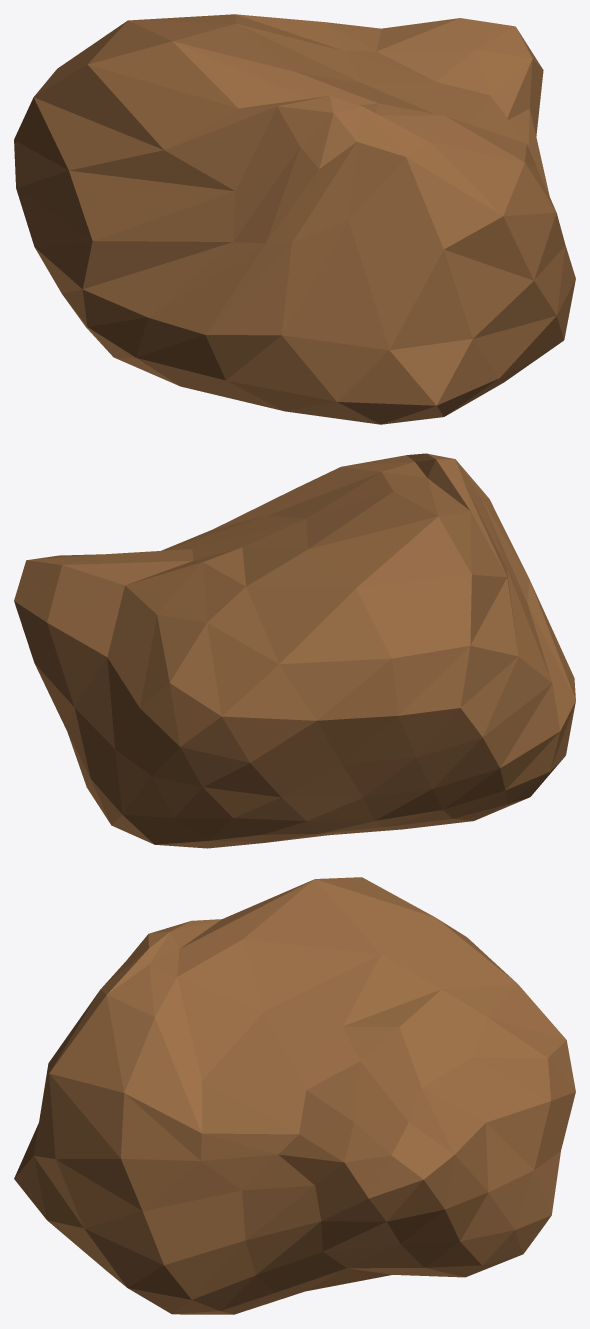
The model's file is stone05.fbx.
The picture shows the model from 3 angles, top to bottom: view 1: azimuth 30°, elevation 25°; view 2: azimuth 150°, elevation 25°; view 3: azimuth 270°, elevation 25°; orthographic projection. The views are drawn at different scales.
Parts seen in each view (by area): view 1: Icosphere; view 2: Icosphere; view 3: Icosphere.
Part boxes in pixels (x1=…): Icosphere: x1=14, y1=14, x2=575, y2=424; Icosphere: x1=14, y1=453, x2=575, y2=848; Icosphere: x1=14, y1=877, x2=575, y2=1314.
Size of the model in its own units: 2.1 by 1.31 by 2.16.
